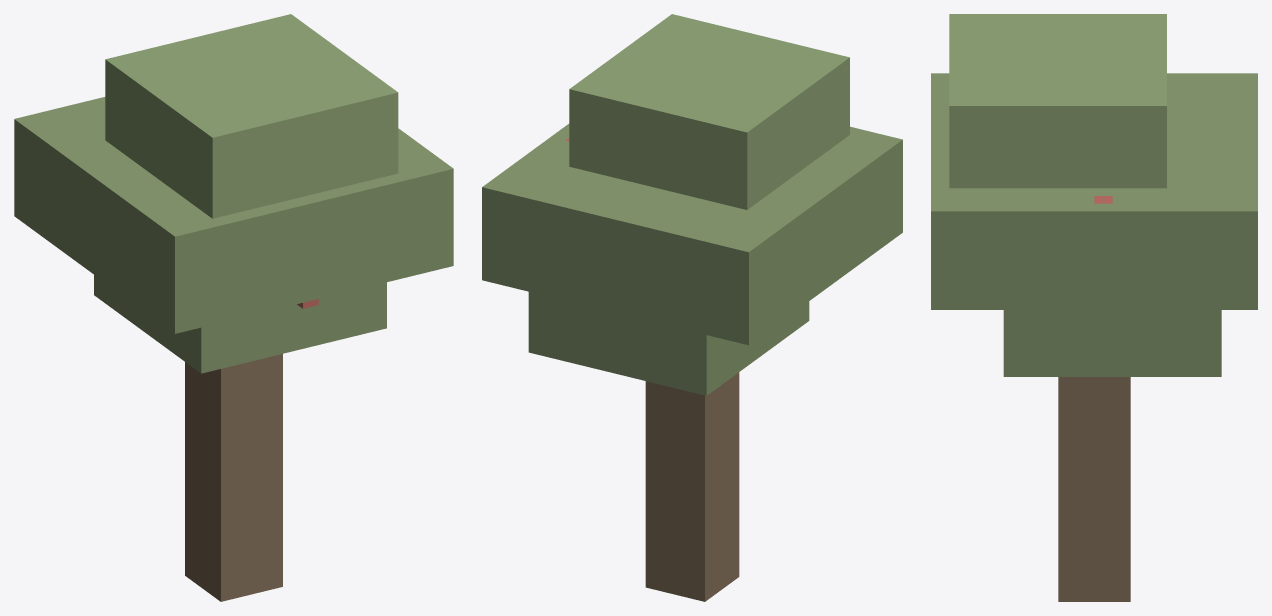
File: avellana_silvestre_04.glb
The picture shows the model from 3 angles, left to right: view 1: azimuth 30°, elevation 25°; view 2: azimuth 150°, elevation 25°; view 3: azimuth 270°, elevation 25°; orthographic projection. The views are drawn at different scales.
Parts seen in each view (by area): view 1: avellana_silvestre_04; view 2: avellana_silvestre_04; view 3: avellana_silvestre_04.
Boxes of the visible parts, left/top/right/bottom form: avellana_silvestre_04: left=14, top=14, right=453, bottom=601; avellana_silvestre_04: left=482, top=14, right=902, bottom=601; avellana_silvestre_04: left=931, top=14, right=1257, bottom=601.
Bounding box in the file's own units: 1.8 × 3.2 × 1.8.
